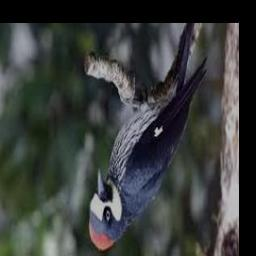Woodpecker: (90, 23, 208, 254)
